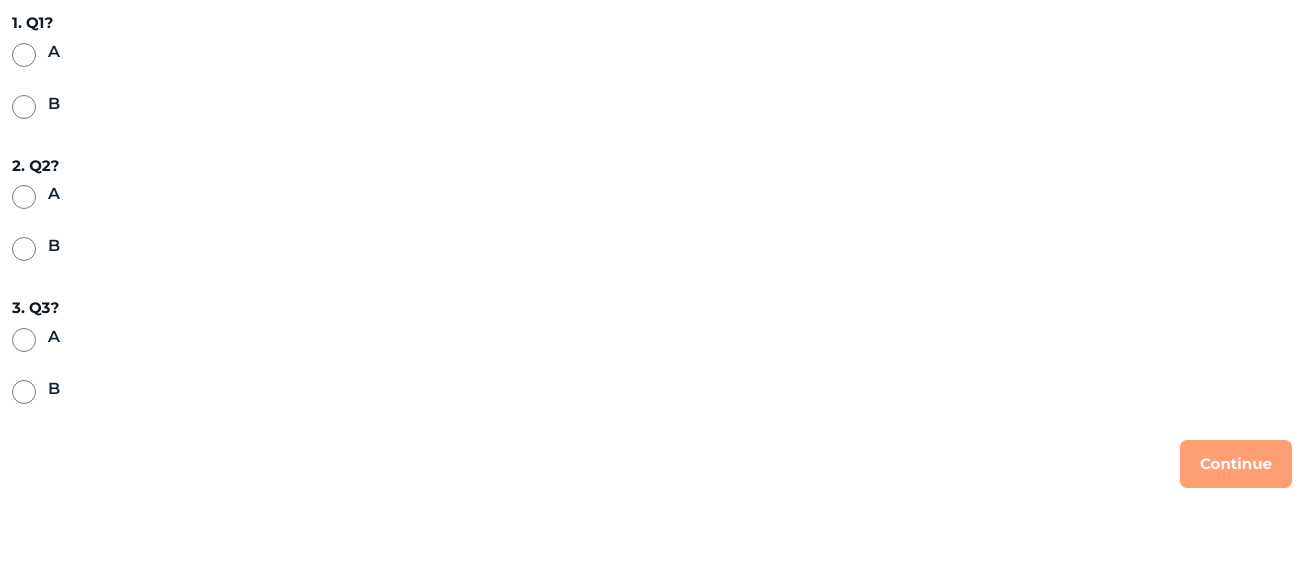
Test case: Quiz › disables Continue until every question has an answer
Check: the button "Continue" is disabled, box [1180, 440, 1292, 488]
Step 1. Click the radio button labelled "A" below "Q1?" → click(24, 54), box [12, 42, 36, 66]
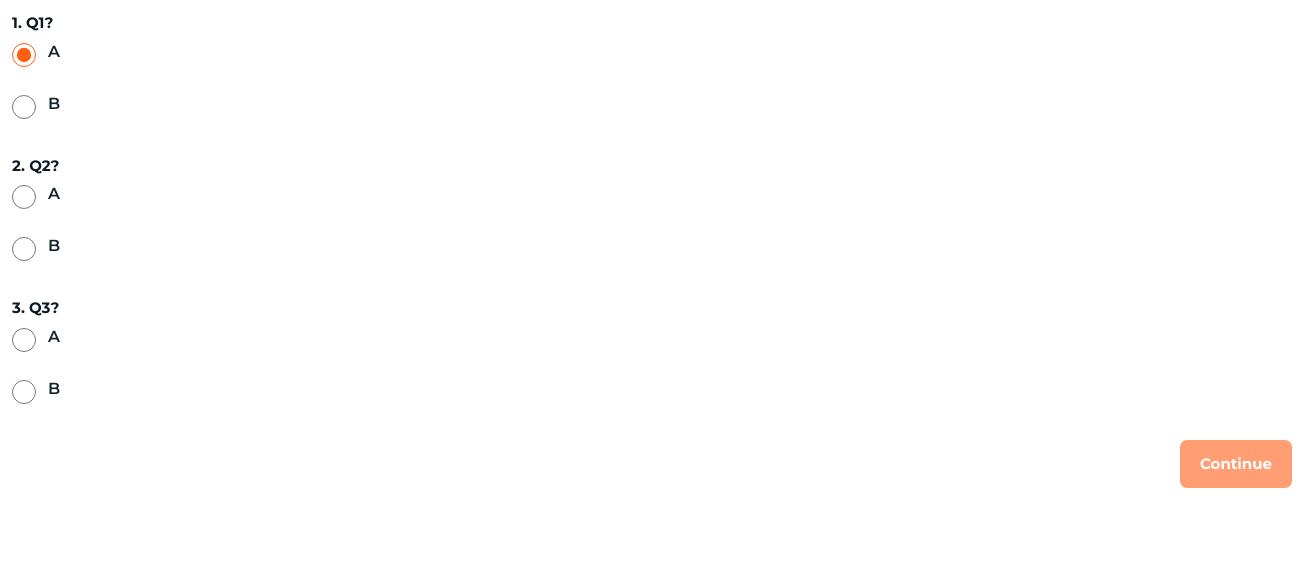
Check: the button "Continue" is disabled, box [1180, 440, 1292, 488]
Step 2. Click the radio button labelled "A" below "Q2?" → click(24, 197), box [12, 185, 36, 209]
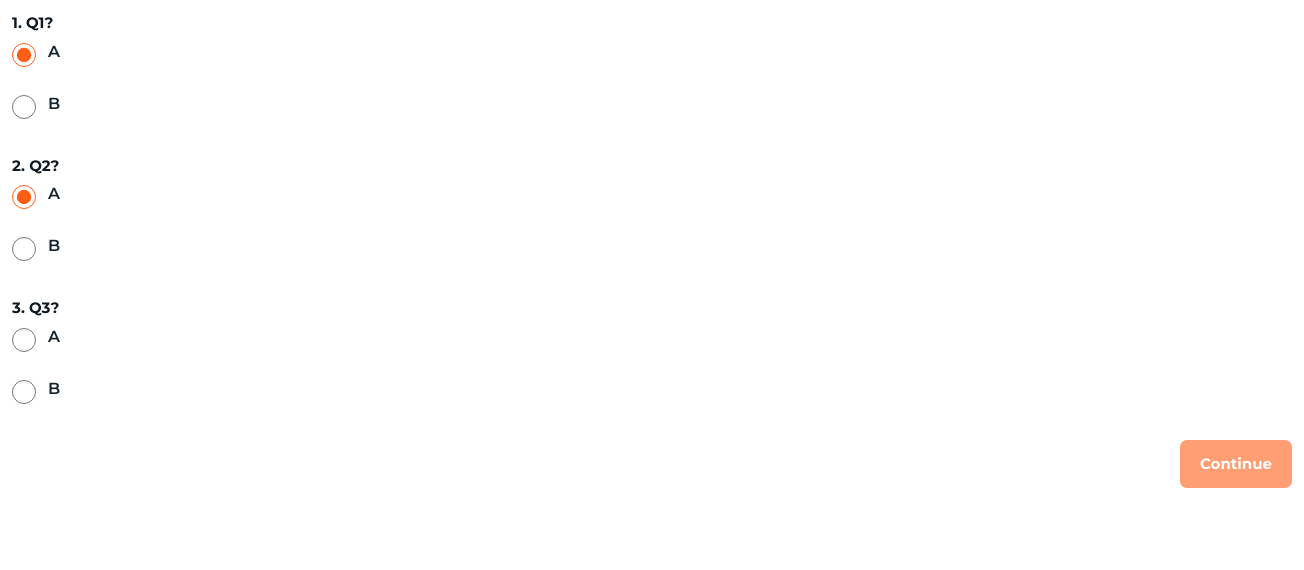
Step 3. Click the radio button labelled "A" below "Q3?" → click(24, 340), box [12, 328, 36, 352]
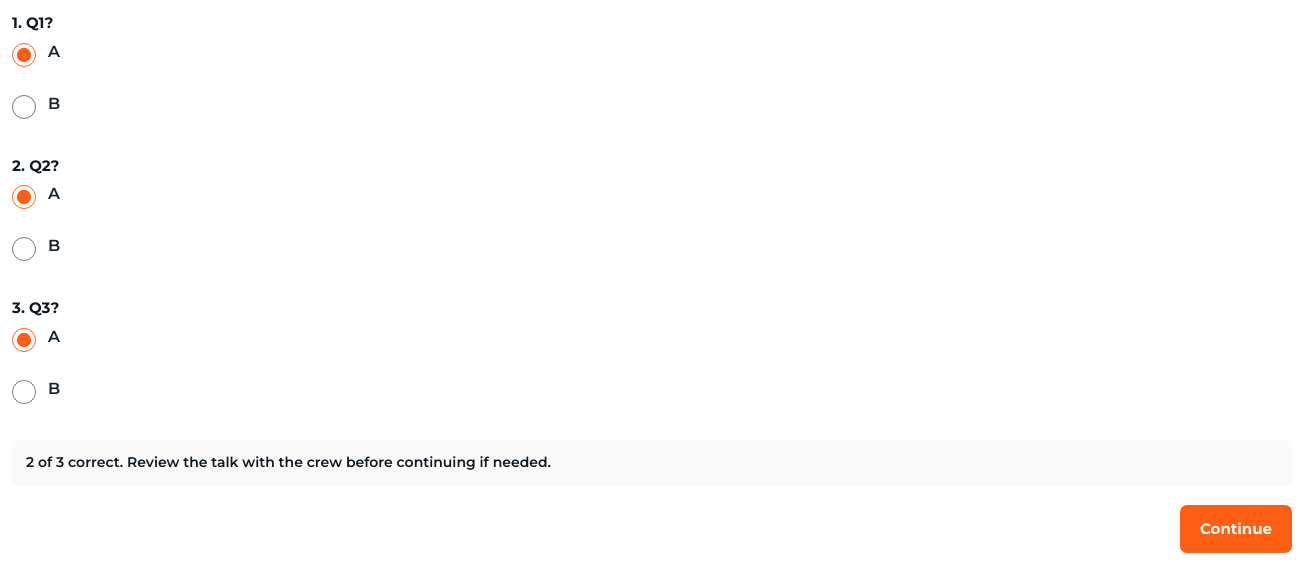
Check: the button "Continue" is enabled, box [1180, 504, 1292, 552]
